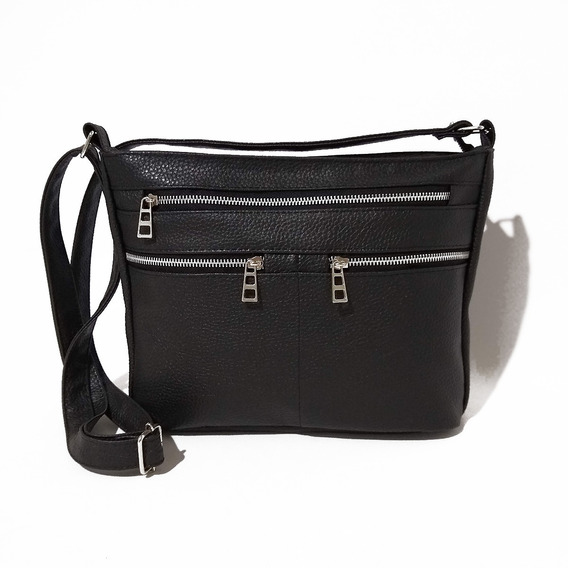cartera: (33, 115, 498, 479)
